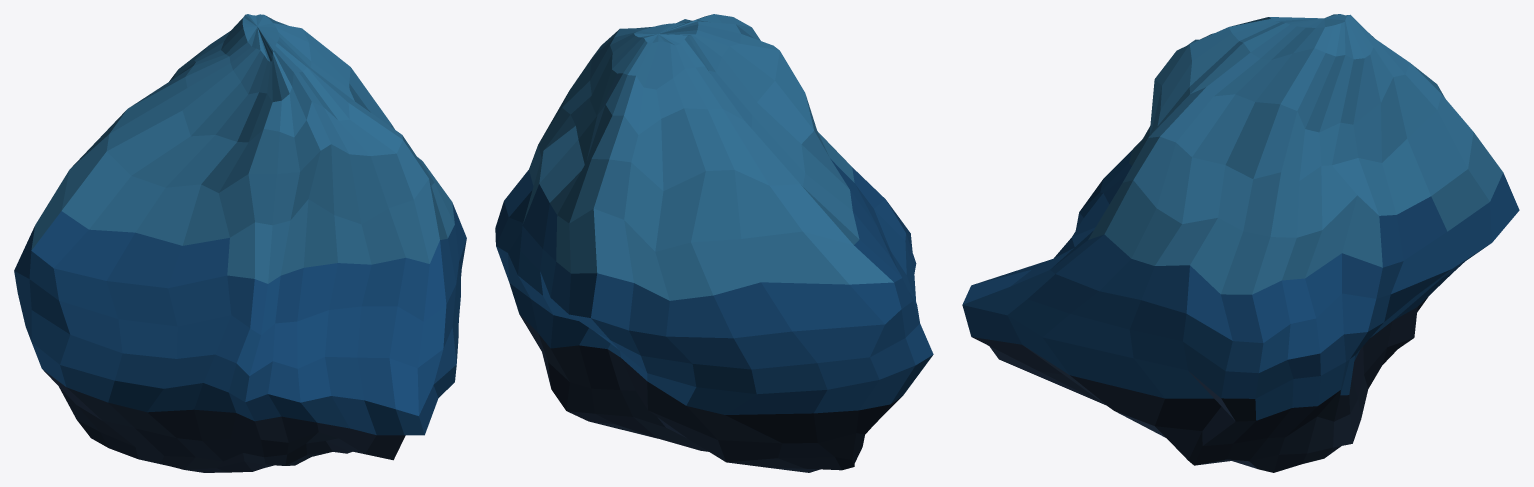
Rendered from rock002.FBX.
The picture shows the model from 3 angles, left to right: view 1: azimuth 30°, elevation 25°; view 2: azimuth 150°, elevation 25°; view 3: azimuth 270°, elevation 25°; orthographic projection. The views are drawn at different scales.
Visible parts, largest first — view 1: rock_002; view 2: rock_002; view 3: rock_002.
Part boxes in pixels (x1,y1,x2,y2): rock_002: (14, 14, 466, 472); rock_002: (495, 14, 933, 472); rock_002: (962, 14, 1519, 472).
Size of the model in its own units: 13.78 by 12.7 by 15.32.
